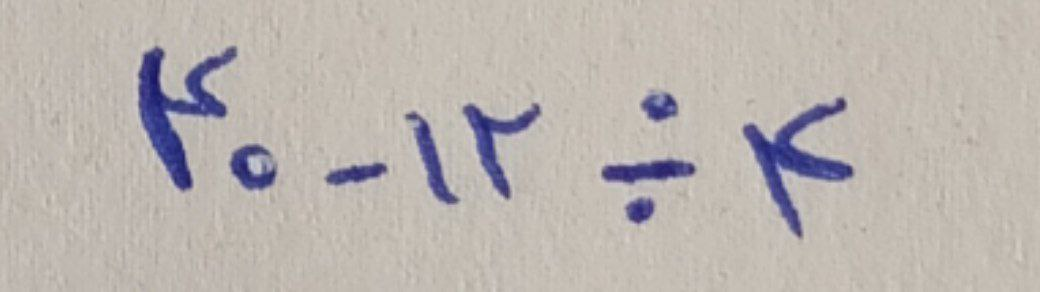character: (732, 88, 858, 244), (592, 81, 705, 228), (133, 29, 232, 193), (466, 94, 542, 208), (394, 103, 463, 212), (231, 130, 281, 198), (319, 155, 392, 193)
